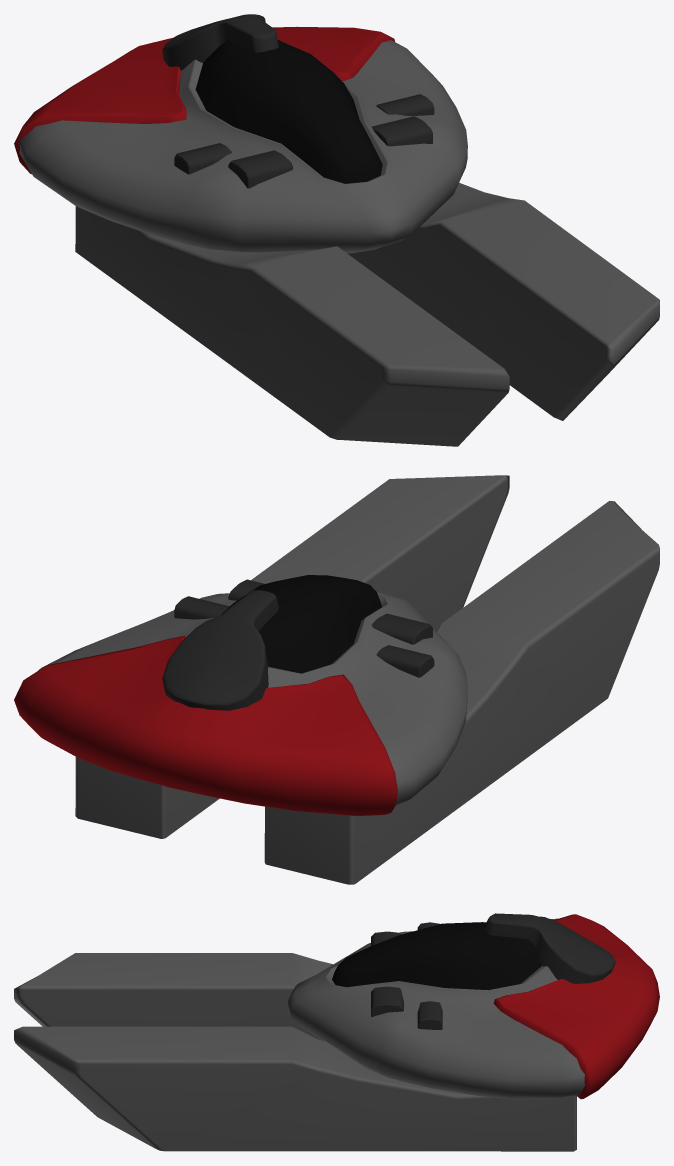
Rendered from Ship_enemy_02_Hull.fbx.
3 renders of one model, top to bottom at view 1: azimuth 30°, elevation 25°; view 2: azimuth 150°, elevation 25°; view 3: azimuth 270°, elevation 25°, orthographic. The views are drawn at different scales.
Visible parts, largest first — view 1: Ship_enemy_02_Hull; view 2: Ship_enemy_02_Hull; view 3: Ship_enemy_02_Hull.
Part boxes in pixels (x1,y1,x2,y2): Ship_enemy_02_Hull: (14, 14, 659, 446); Ship_enemy_02_Hull: (14, 475, 659, 884); Ship_enemy_02_Hull: (14, 913, 659, 1151).
Bounding box in the file's own units: 319 × 175 × 569.
